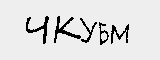Б: (96, 21, 109, 48)
К: (51, 14, 83, 42)
М: (108, 21, 131, 46)
У: (78, 18, 97, 45)
Ч: (22, 14, 50, 48)
